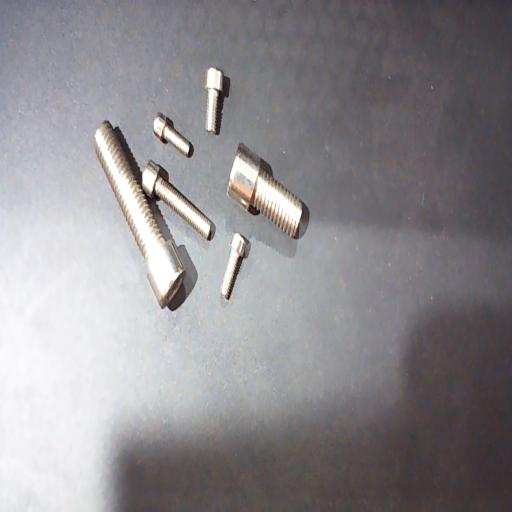screw: (93, 119, 185, 310), (226, 142, 304, 239), (142, 158, 211, 240), (220, 232, 246, 300), (154, 112, 190, 157), (205, 67, 223, 135)
